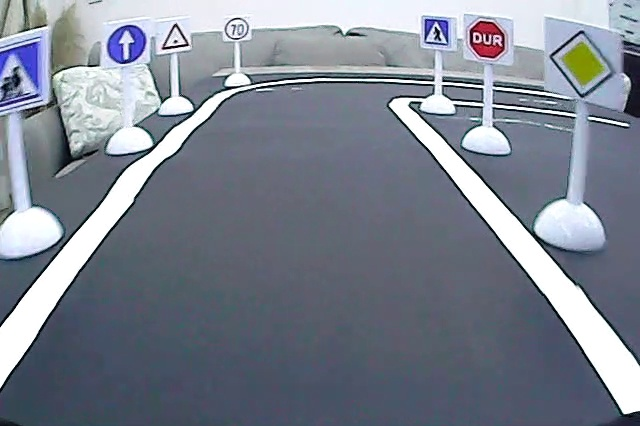green light: (160, 21, 191, 51)
pedestrian crossing: (422, 17, 453, 48)
school crossing: (1, 33, 45, 112)
speed limit 70: (224, 16, 252, 41)
stop sign: (467, 18, 510, 63)
